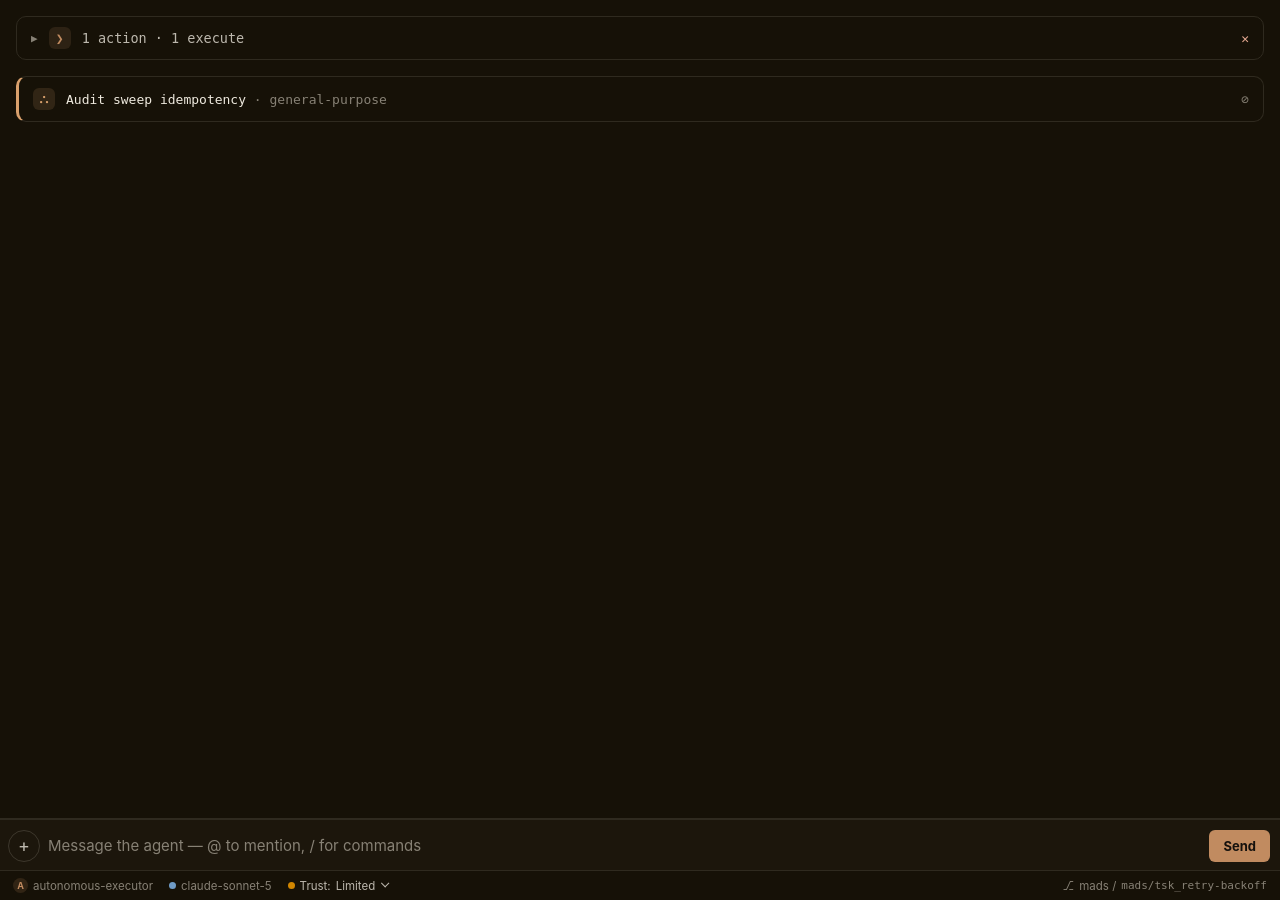
ConversationTab — history parity (T17) › with no file, reads every subagent stream back in full — once, when a dock needs it
Click the button "⛬ Audit sweep idempotency · general-purpose ⊘".
click(156, 99)  # box [19, 77, 1263, 121]
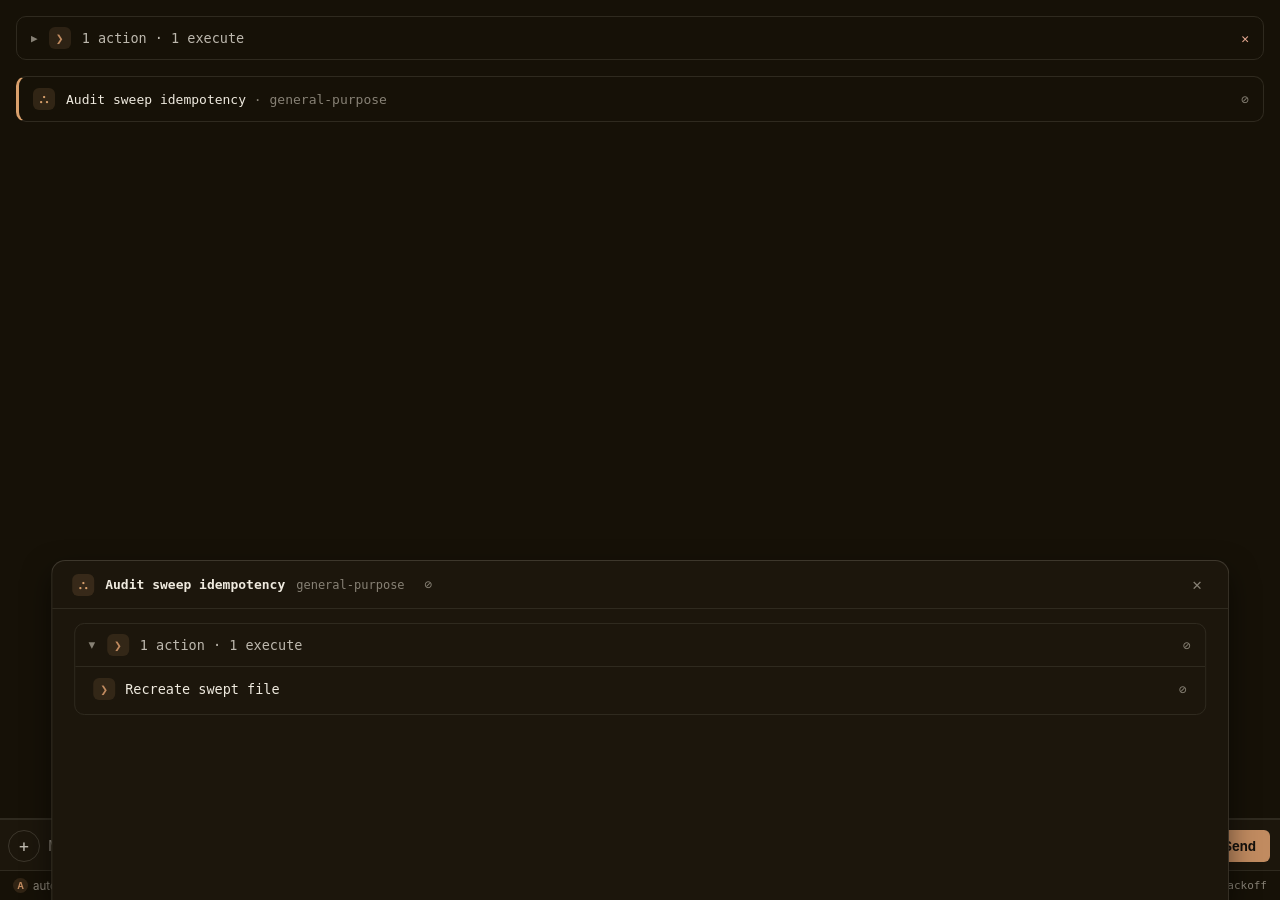
Now the dialog named "Activity detail" shows "Recreate swept file", box [125, 681, 280, 697]
